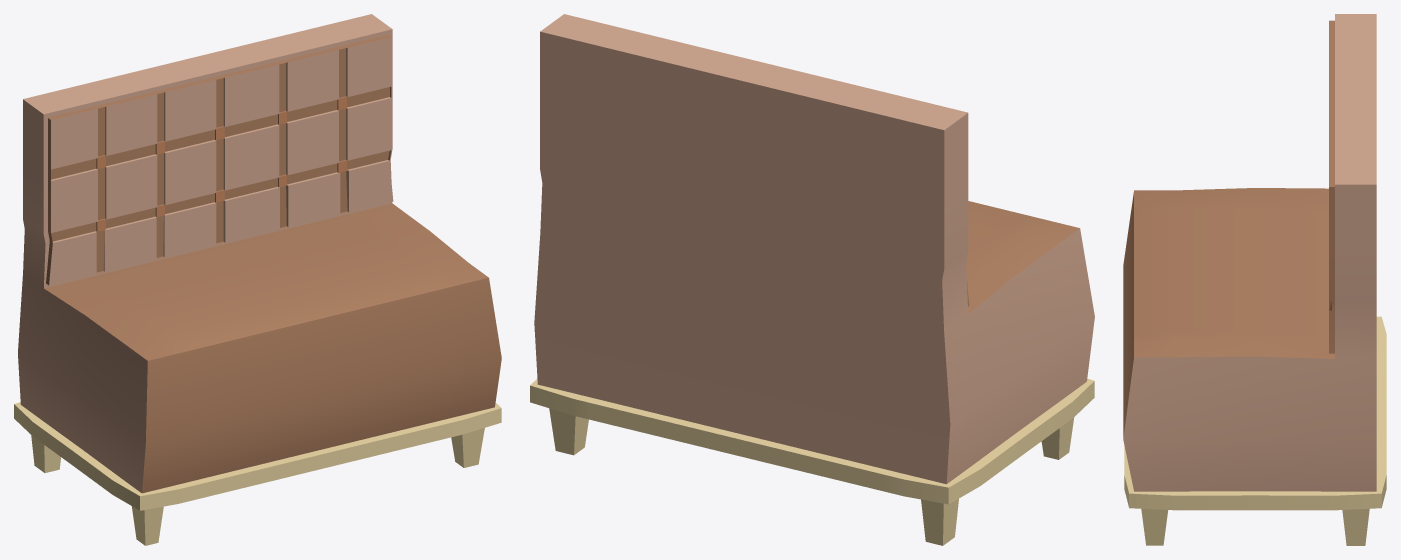
Rendered from Couch.fbx.
3 views of the same model, side by side, from view 1: azimuth 30°, elevation 25°; view 2: azimuth 150°, elevation 25°; view 3: azimuth 270°, elevation 25° (orthographic). The views are drawn at different scales.
Visible parts, largest first — view 1: Couch; view 2: Couch; view 3: Couch.
Part boxes in pixels (x1=…): Couch: x1=14, y1=14, x2=501, y2=545; Couch: x1=530, y1=14, x2=1094, y2=545; Couch: x1=1123, y1=14, x2=1386, y2=545.
Bounding box in the file's own units: 60.67 × 57.08 × 37.32.
Materials: 1 (1 with a texture image).
